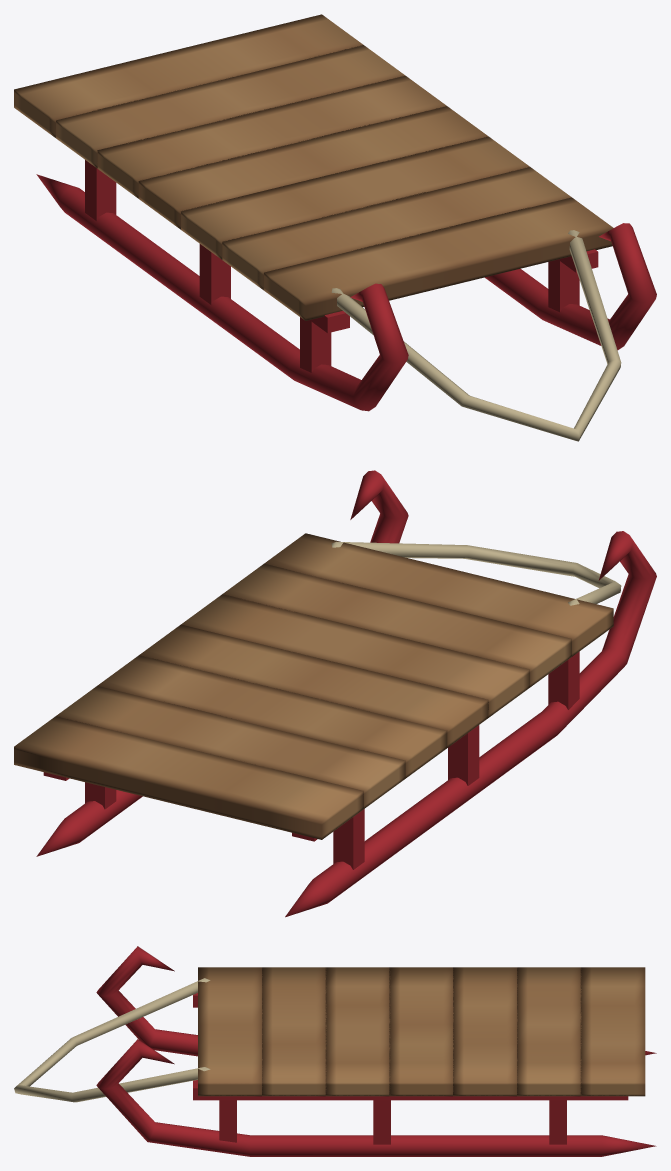
The model's file is Xmas_Sled.fbx.
The picture shows the model from 3 angles, top to bottom: view 1: azimuth 30°, elevation 25°; view 2: azimuth 150°, elevation 25°; view 3: azimuth 270°, elevation 25°; orthographic projection. The views are drawn at different scales.
Visible parts, largest first — view 1: Xmas_Sled; view 2: Xmas_Sled; view 3: Xmas_Sled.
Part boxes in pixels (x1,y1,x2,y2): Xmas_Sled: [14, 14, 656, 441]; Xmas_Sled: [14, 470, 656, 917]; Xmas_Sled: [14, 946, 656, 1156].
Size of the model in its own units: 12.4 by 5.83 by 29.24.
